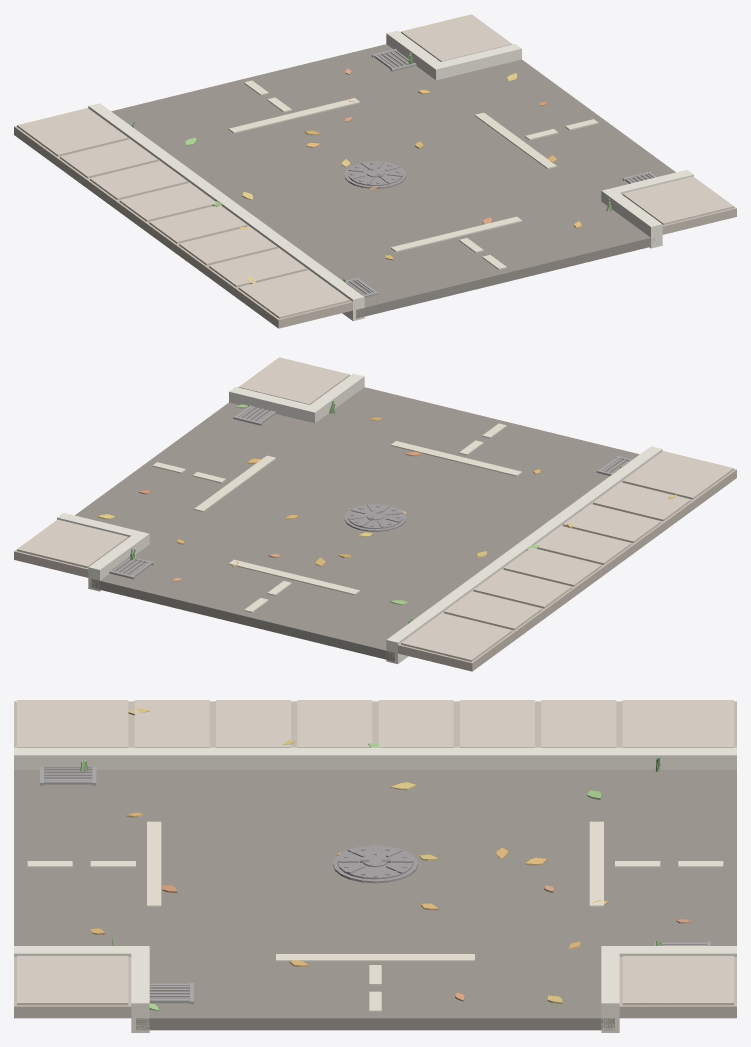
File: Road_T_A.fbx
3 views of the same model, one above another, from view 1: azimuth 30°, elevation 25°; view 2: azimuth 150°, elevation 25°; view 3: azimuth 270°, elevation 25° (orthographic). The views are drawn at different scales.
Visible parts, largest first — view 1: Road_T_A, Road_T_A_Veg; view 2: Road_T_A, Road_T_A_Veg; view 3: Road_T_A, Road_T_A_Veg.
Part boxes in pixels (bbox=[...]): Road_T_A: bbox=[14, 14, 736, 328]; Road_T_A_Veg: bbox=[132, 53, 612, 284]; Road_T_A: bbox=[14, 357, 736, 671]; Road_T_A_Veg: bbox=[97, 400, 676, 623]; Road_T_A: bbox=[14, 700, 736, 1032]; Road_T_A_Veg: bbox=[80, 708, 690, 1010].
Bounding box in the file's own units: 8 × 0.4143 × 8.
